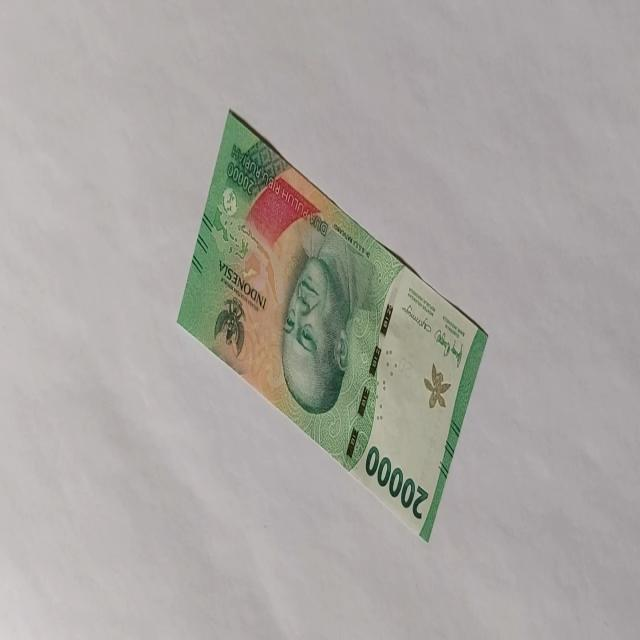dua puluh ribu rupiah: (176, 106, 488, 544)
